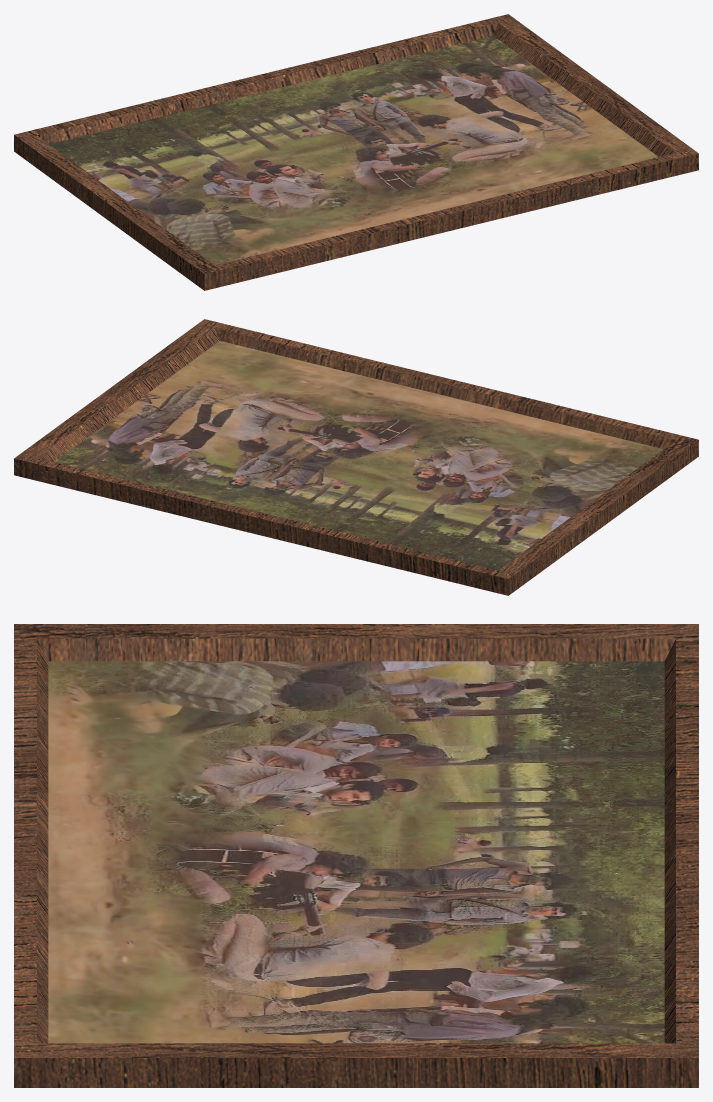
The picture shows the model from 3 angles, top to bottom: view 1: azimuth 30°, elevation 25°; view 2: azimuth 150°, elevation 25°; view 3: azimuth 270°, elevation 25°; orthographic projection. The views are drawn at different scales.
Parts seen in each view (by area): view 1: Plane, frame1(1); view 2: Plane, frame1(1); view 3: Plane, frame1(1).
Boxes of the visible parts, x1,y1,x2,y2 form: Plane: [49, 36, 658, 265]; frame1(1): [14, 14, 698, 290]; Plane: [54, 341, 663, 570]; frame1(1): [14, 319, 698, 595]; Plane: [48, 661, 664, 1043]; frame1(1): [14, 624, 698, 1087].
Size of the model in its own units: 13.17 by 0.4268 by 8.79.
Materials: 2 (2 with a texture image).
